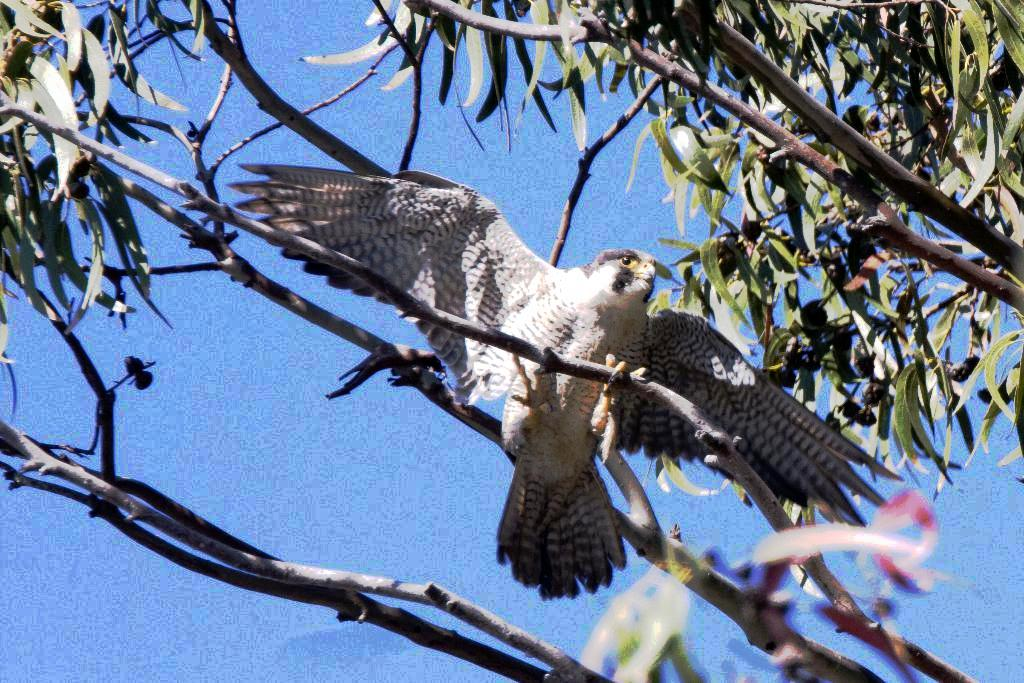Owl: (225, 162, 907, 610)
